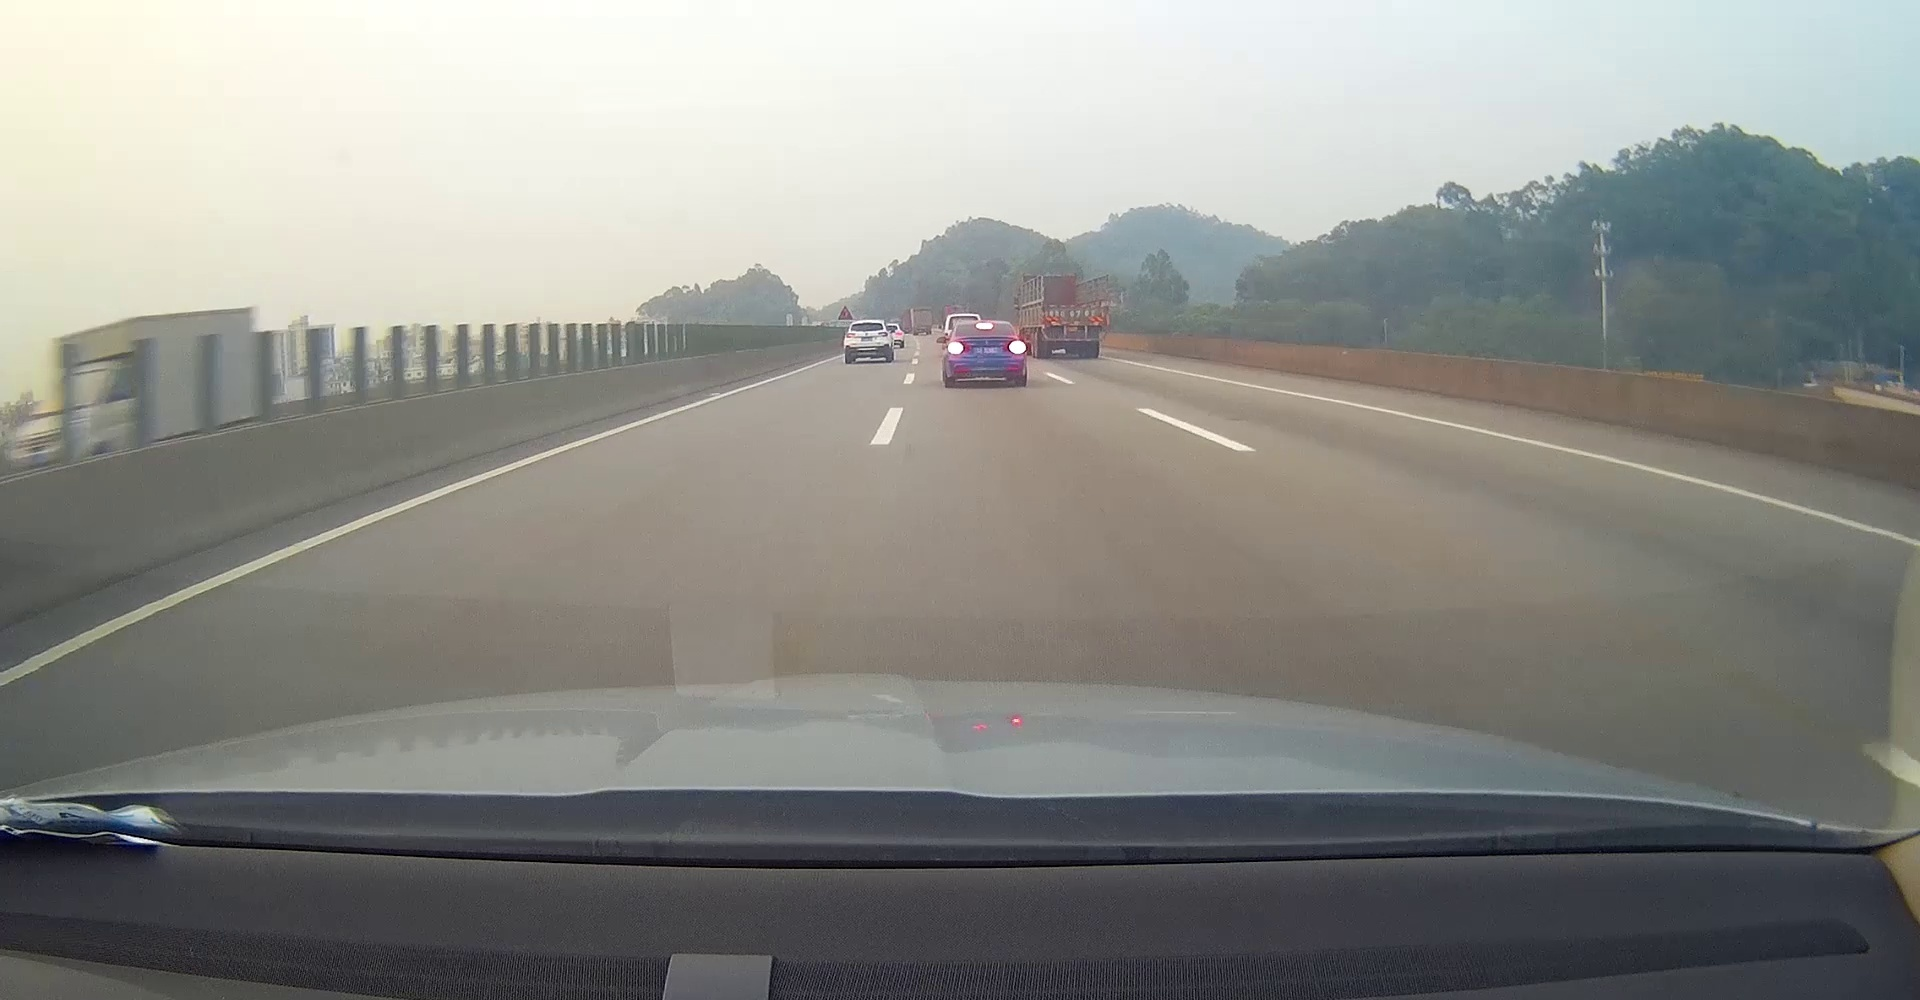L_light: (949, 341, 970, 353), (847, 332, 856, 338), (1048, 336, 1057, 340)
R_light: (1004, 341, 1023, 352), (879, 332, 888, 336), (1091, 336, 1098, 340)
T_light: (978, 324, 990, 327), (1070, 308, 1079, 311), (865, 324, 872, 325)
day-brake: (947, 321, 1026, 387)
day-no: (1040, 306, 1109, 358), (844, 320, 891, 364)
